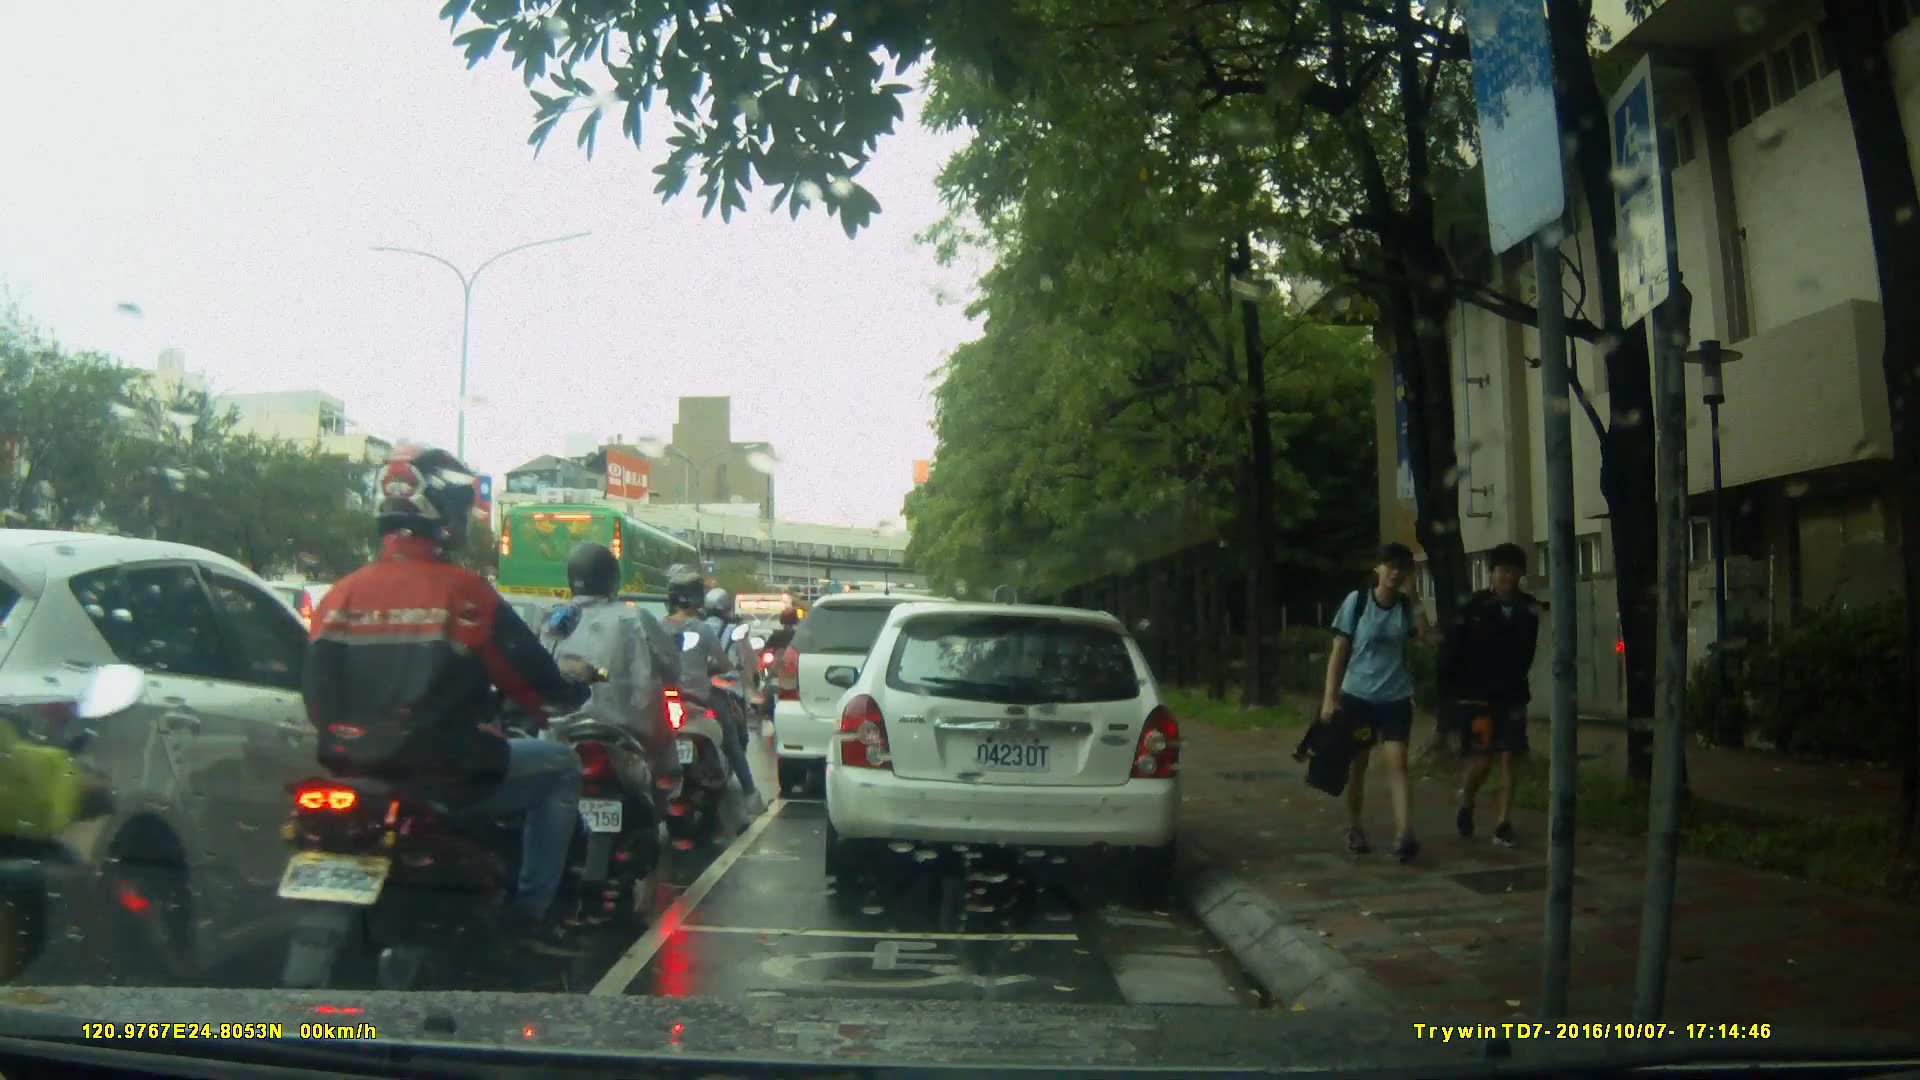pedestrian: (1299, 536, 1455, 864), (1450, 540, 1547, 859)
rider: (275, 440, 607, 1008), (526, 547, 708, 901), (637, 564, 750, 828), (691, 587, 766, 772), (765, 601, 811, 725)
vehicle: (1, 529, 454, 988), (831, 592, 1196, 897), (320, 590, 628, 783), (770, 590, 999, 803), (495, 501, 707, 636)
